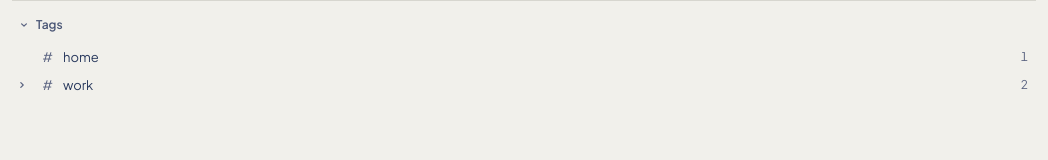
SidebarTags › nests tags on / with each parent's count rolled up
The width and height of the screenshot is (1048, 160).
Expected: the list item "# work 2" is shown, [12,71,1036,99]
Expected: the text "projects" is not shown
Step 1. Click the button named "Expand work" → coordinates (22, 85), box [12,71,32,99]
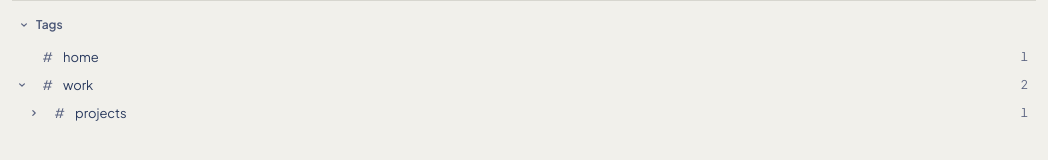
Expected: the list item "# projects 1" is shown, [12,99,1036,127]
